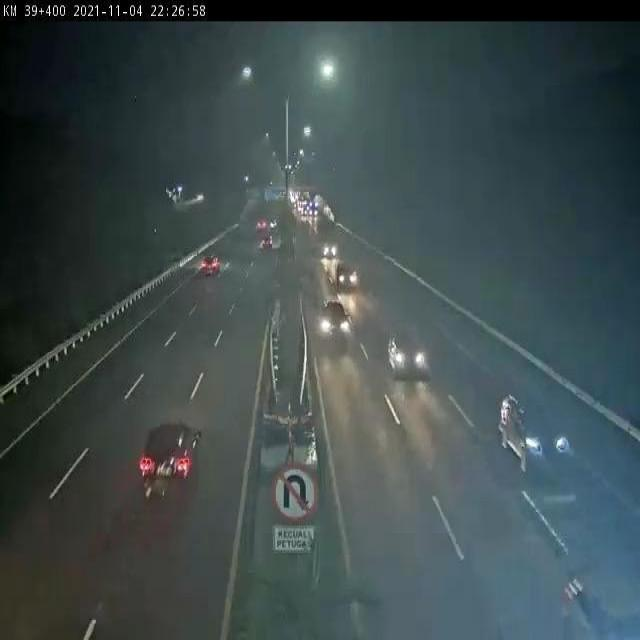car: (499, 390, 571, 474), (138, 426, 202, 498), (388, 332, 430, 376), (318, 301, 353, 344), (199, 253, 224, 280)
